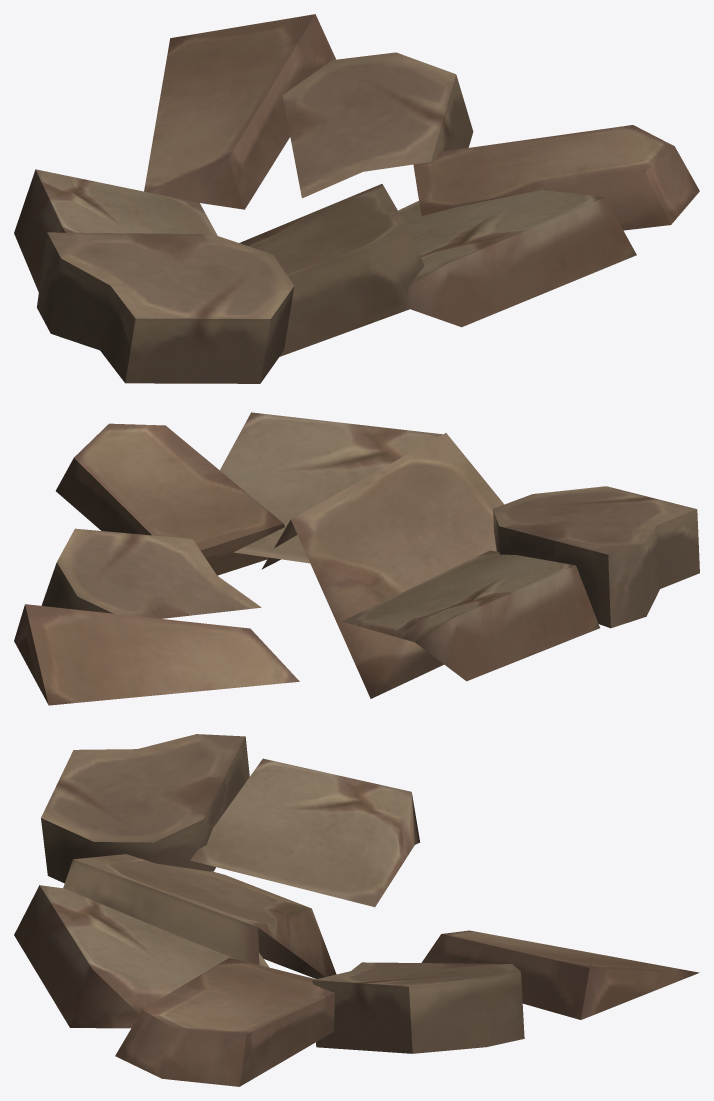
File: Steps02_Build_LostTemple_005.FBX
3 views of the same model, one above another, from view 1: azimuth 30°, elevation 25°; view 2: azimuth 150°, elevation 25°; view 3: azimuth 270°, elevation 25° (orthographic). The views are drawn at different scales.
Parts seen in each view (by area): view 1: Steps02_Build_LostTemple_005; view 2: Steps02_Build_LostTemple_005; view 3: Steps02_Build_LostTemple_005.
Boxes of the visible parts, box(x1,y1,x2,y2) form: Steps02_Build_LostTemple_005: box(14, 14, 699, 383); Steps02_Build_LostTemple_005: box(14, 412, 699, 705); Steps02_Build_LostTemple_005: box(14, 734, 699, 1086).
Size of the model in its own units: 94.74 by 24.63 by 96.71.
1 material, 1 textured.
